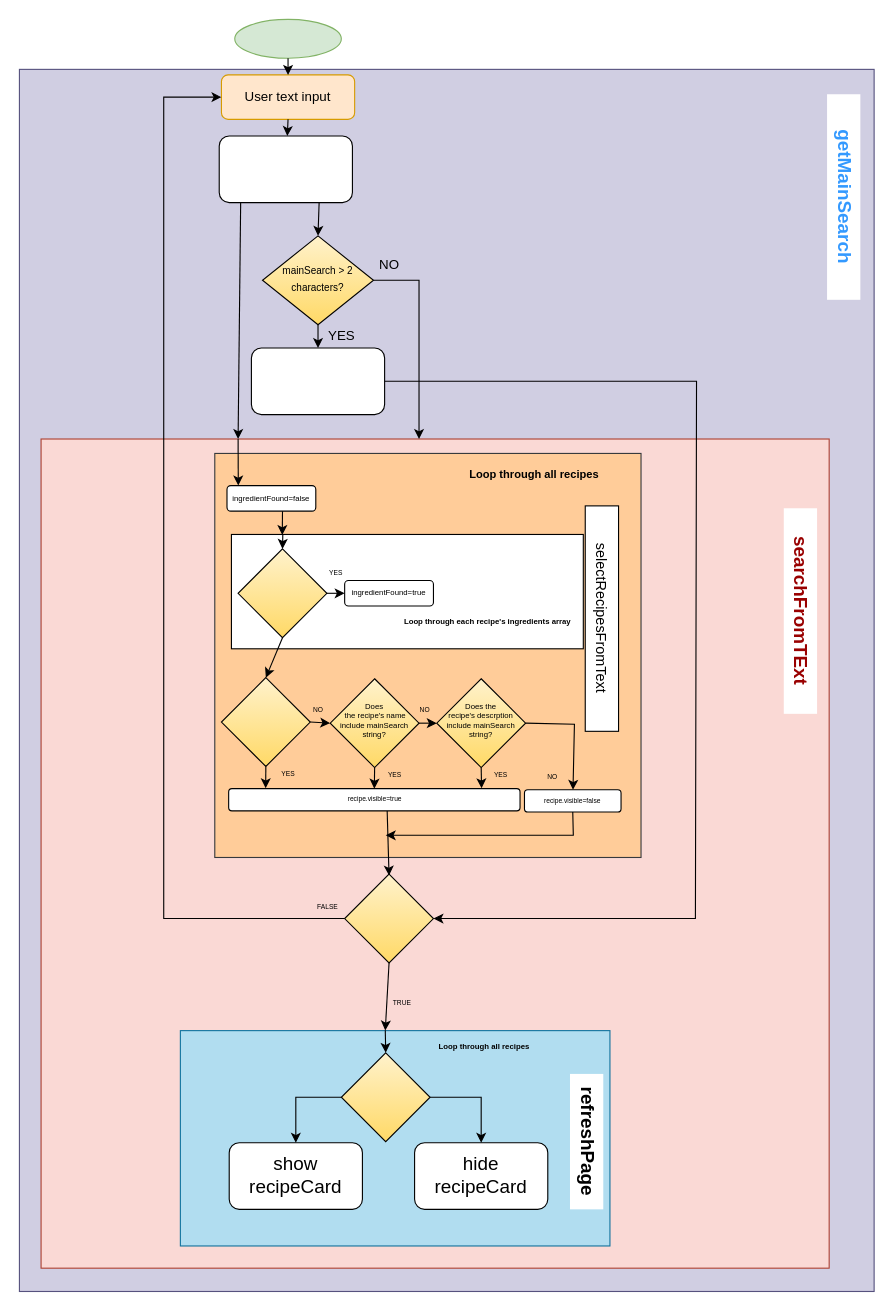
Image size: 894x1311. Some labels were removed from this diagram. The shapes that lost their labels are listed below. From the top down, each one's centre as x and y in pixels, then its label:
At point (287, 38): "START".
At point (285, 169): "Mainsearch searchOn=False".
At point (317, 381): "searchOn=True".
At point (282, 593): "Does the ingredient name include mainSearch string?".
At point (265, 721): "Is ingredientFound true?".
At point (388, 918): "searchOn?".
At point (385, 1097): "recipe.visible?".
